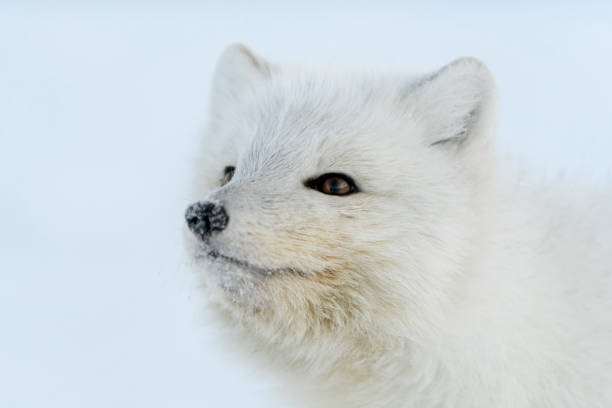arcticfox: (159, 56, 459, 361)
